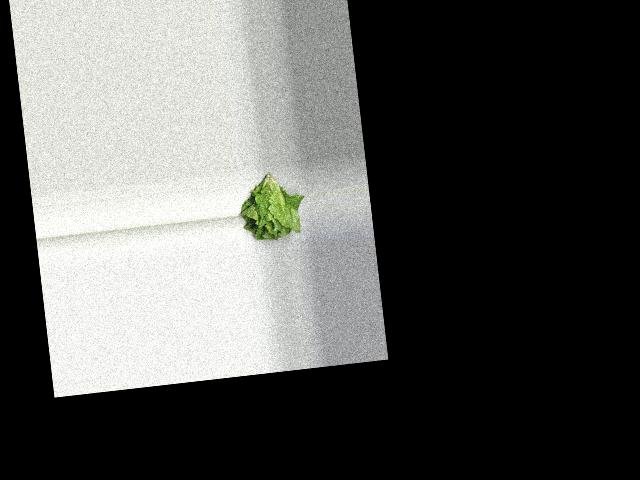lettuce: (236, 168, 308, 243)
